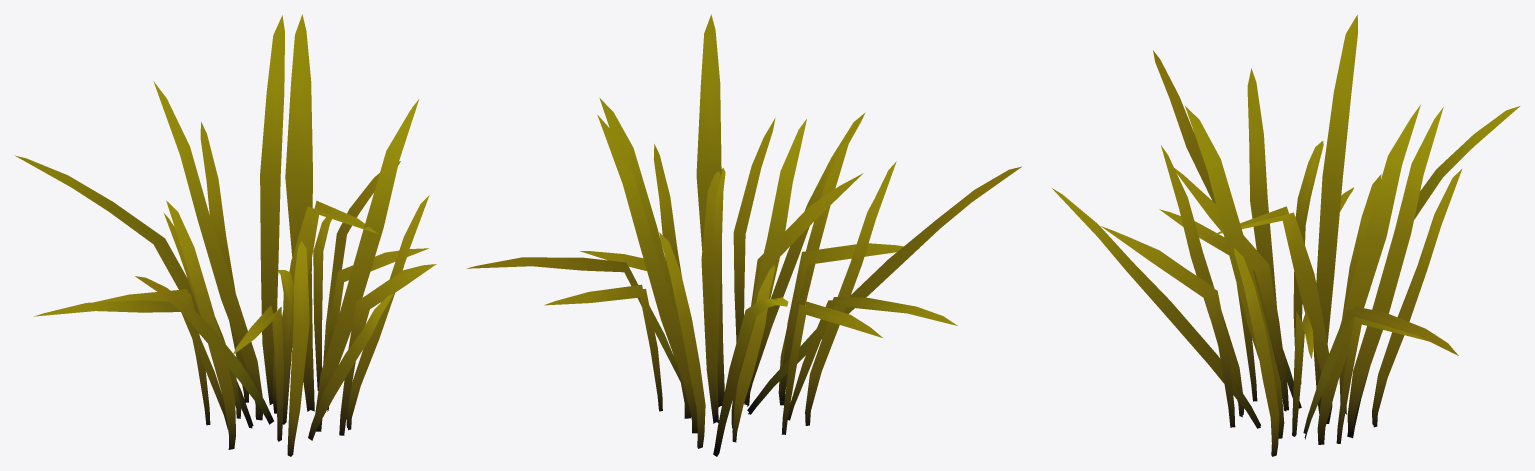
The model's file is grass-b.glb.
3 views of the same model, side by side, from view 1: azimuth 30°, elevation 25°; view 2: azimuth 150°, elevation 25°; view 3: azimuth 270°, elevation 25° (orthographic). The views are drawn at different scales.
Parts seen in each view (by area): view 1: Grass_Wispy_Short; view 2: Grass_Wispy_Short; view 3: Grass_Wispy_Short.
Boxes of the visible parts, box(x1,y1,x2,y2) form: Grass_Wispy_Short: box(15, 14, 436, 456); Grass_Wispy_Short: box(466, 14, 1021, 456); Grass_Wispy_Short: box(1052, 14, 1519, 456).
Bounding box in the file's own units: 1.23 × 1 × 1.13.
1 material, 1 textured.
